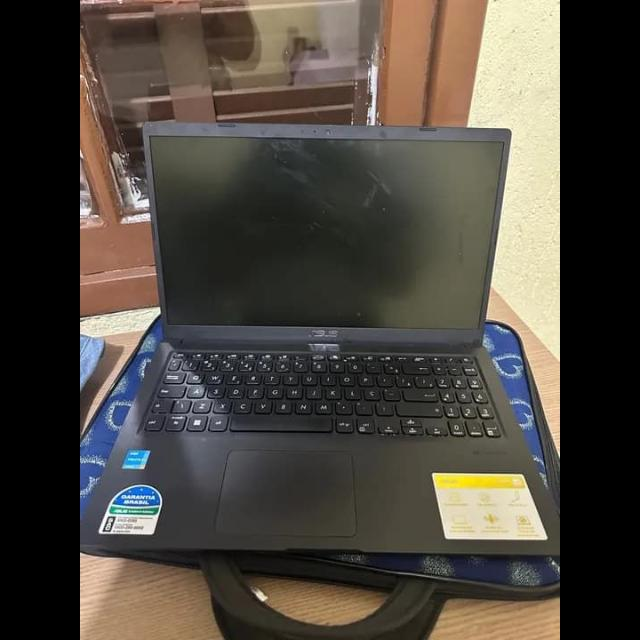laptop: (80, 119, 552, 562)
